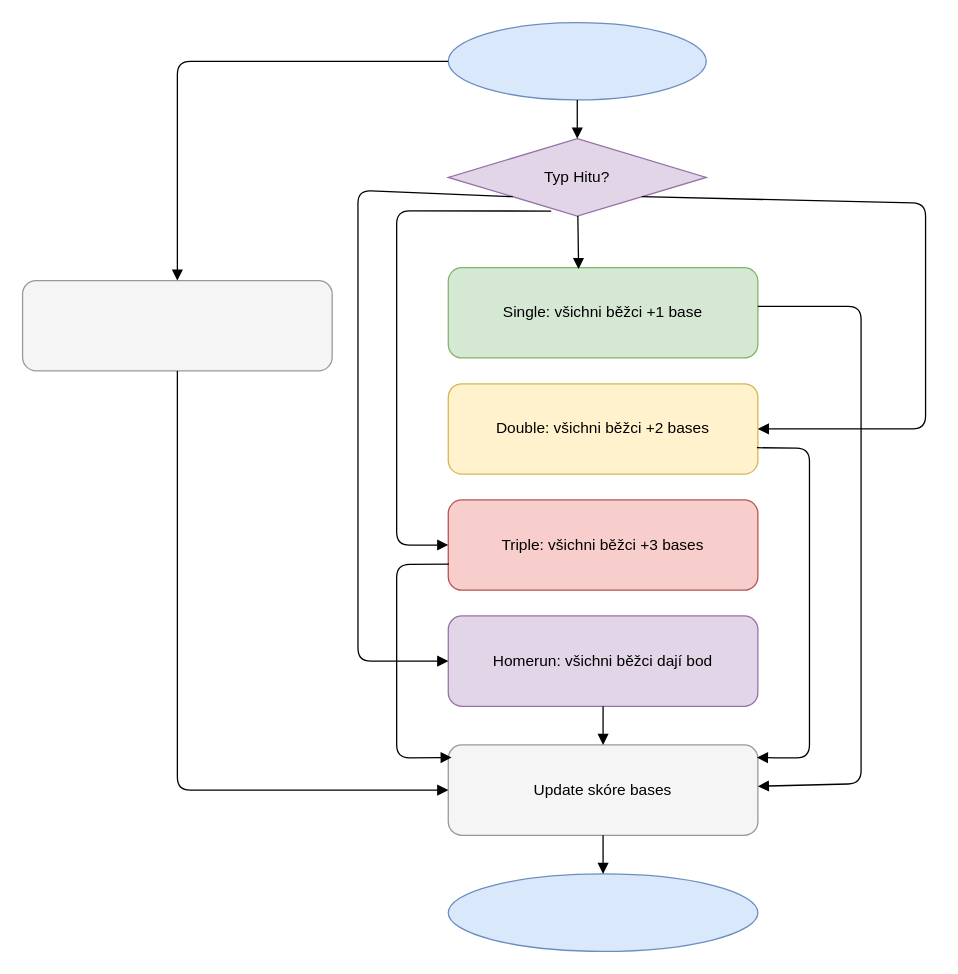
Some shapes in this 958 by 974 pixel diagram are drawn without their labels. Each missing label, with the centre of its shape:
"Hit nebo Walk nastanou" belongs at (x=576, y=60).
"Posunutí běžců u konce" belongs at (x=602, y=912).
"Walk - Pošli běžce na 1B a všichni běžci + 1 meta" belongs at (x=176, y=325).
